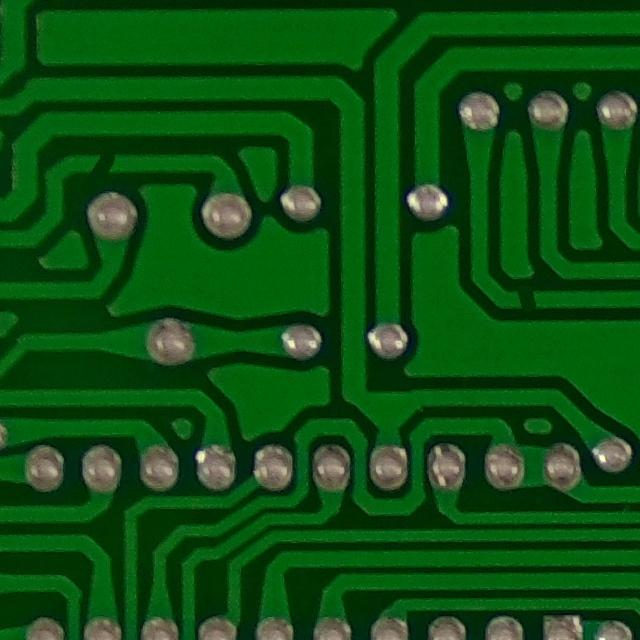open_circuit: (82, 142, 125, 186), (506, 282, 545, 317)
